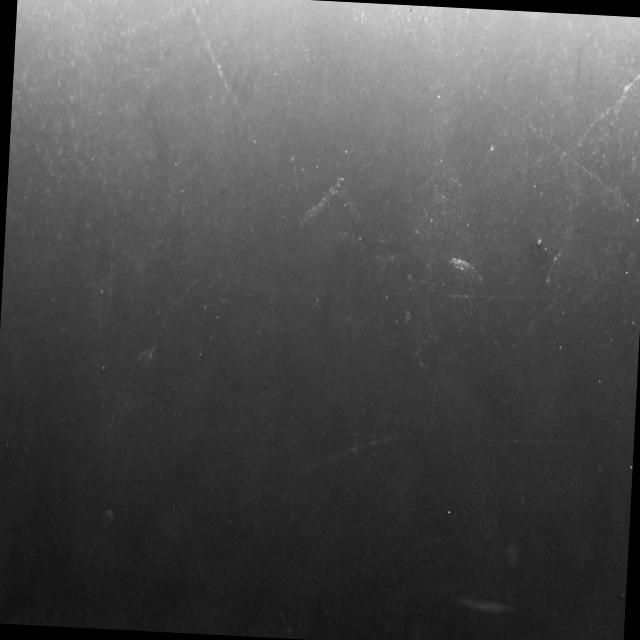beta: (467, 83, 640, 234), (171, 0, 263, 144), (565, 32, 640, 156), (292, 424, 416, 482), (112, 1, 176, 48), (161, 268, 204, 316), (282, 136, 306, 218), (276, 608, 305, 639), (544, 250, 558, 286)
